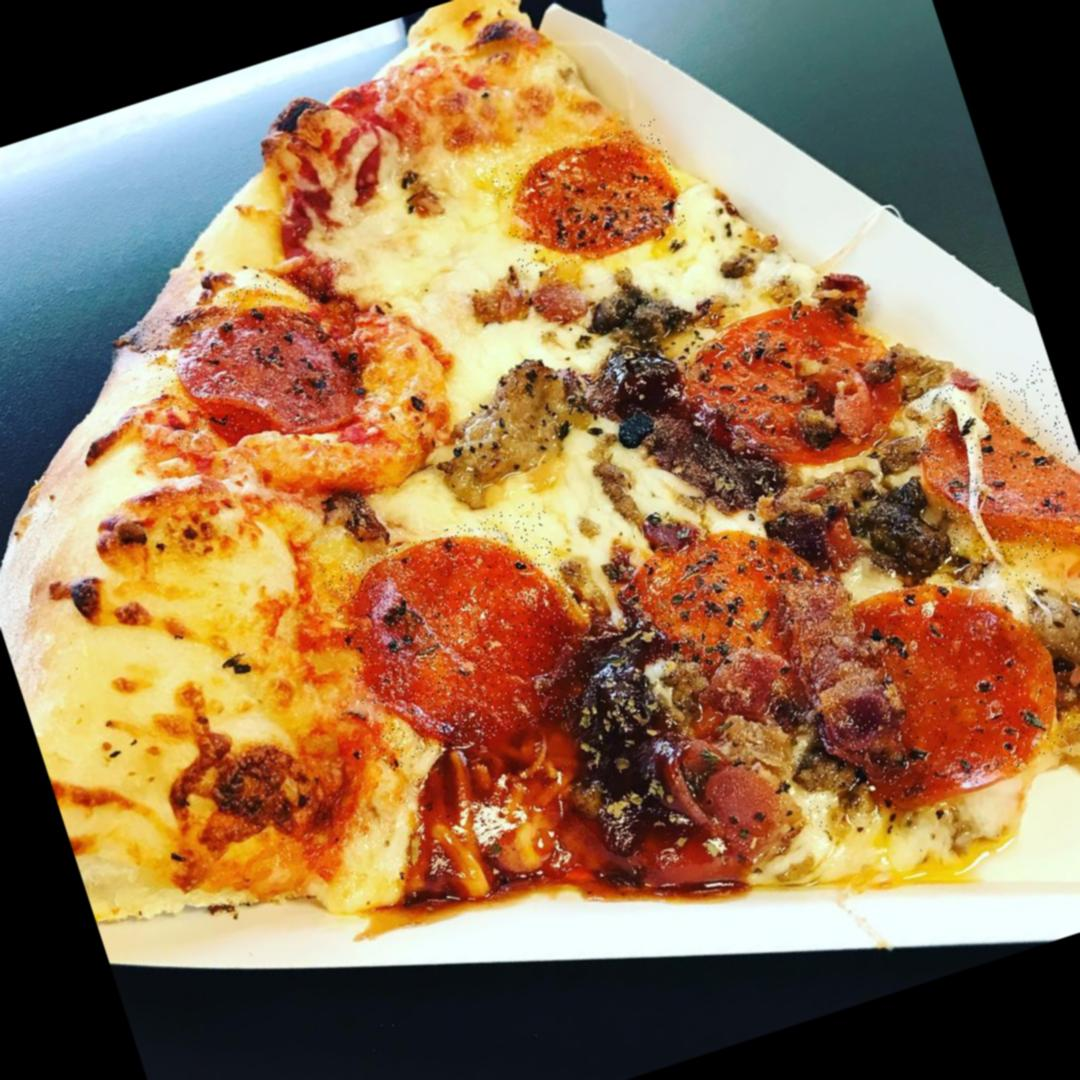Pepperoni: (752, 545, 1080, 835), (319, 498, 608, 774), (138, 255, 386, 450), (686, 290, 903, 481), (629, 514, 836, 710), (905, 356, 1080, 584), (489, 118, 692, 280)
Pizza: (0, 0, 1080, 1080)
